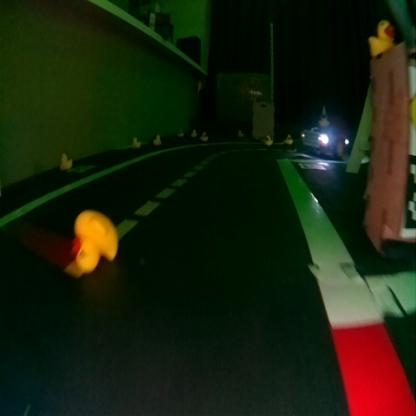Duckie: (72, 209, 118, 267), (369, 19, 393, 56), (60, 154, 70, 168), (133, 137, 139, 146), (153, 134, 159, 143), (265, 136, 271, 145), (200, 131, 206, 139), (286, 134, 292, 142), (192, 128, 197, 136), (238, 129, 243, 137), (178, 128, 183, 135)
Duckiebot: (302, 126, 347, 157)
QR code: (70, 164, 94, 172)
